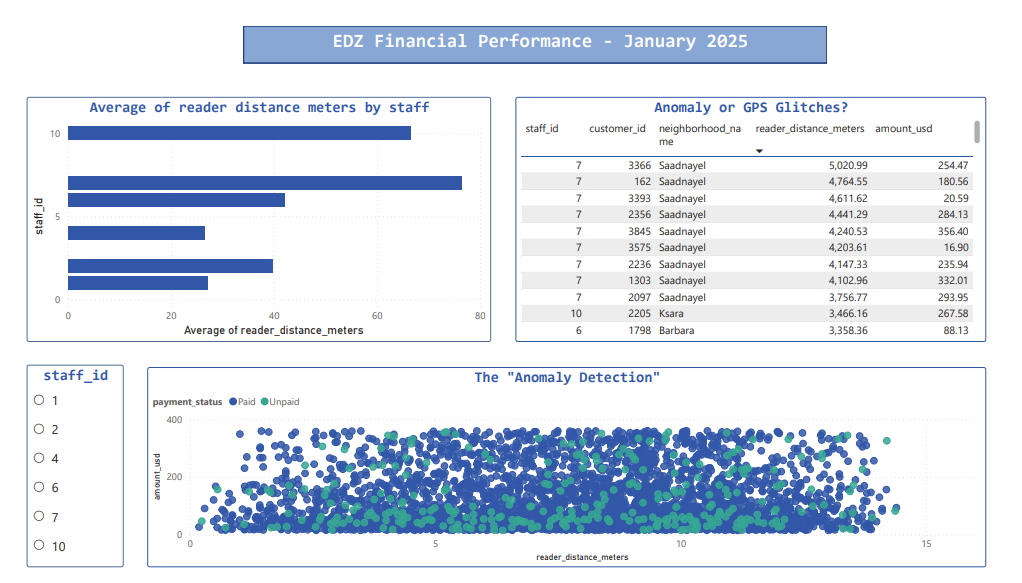

This screenshot's page, from the dashboard's own definition file:
{"tool":"powerbi","page":{"name":"Operational Audit","canvas":[1280,720],"ordinal":1},"visuals":[{"type":"shape","box":[295,23.3,740,46.7],"z":0},{"type":"textbox","box":[391.7,23.3,560,45],"z":1000},{"type":"scatterChart","title":"The \"Anomaly Detection\" ","fields":{"X":["edz_operations_db view_customer_analytics.reader_distance_meters"],"Y":["edz_operations_db view_customer_analytics.amount_usd"],"Series":["edz_operations_db view_customer_analytics.payment_status"]},"box":[172.9,455.7,1064.3,254.3],"z":2000},{"type":"tableEx","title":"Anomaly or GPS Glitches?","fields":{"Values":["edz_operations_db view_customer_analytics.staff_id","edz_operations_db view_customer_analytics.customer_id","edz_operations_db view_customer_analytics.neighborhood_name","edz_operations_db view_customer_analytics.reader_distance_meters","edz_operations_db view_customer_analytics.amount_usd"]},"box":[640,112.9,597.1,311.4],"z":3000},{"type":"barChart","title":"Average of reader distance meters by staff","fields":{"Category":["edz_operations_db view_customer_analytics.staff_id"],"Y":["Avg(edz_operations_db view_customer_analytics.reader_distance_meters)"]},"box":[20,112.9,588.6,311.4],"z":4000},{"type":"listSlicer","fields":{"Values":["edz_operations_db view_customer_analytics.staff_id"]},"box":[20,452.9,122.9,257.1],"z":5000}]}

Visuals, with their boxes in screenshot pixels (x1, y1, x2, y2), scaled from the page's 1280x720 canvas onto the 1022x583 screenshot:
shape: [236, 19, 826, 57]
textbox: [313, 19, 760, 55]
"The "Anomaly Detection" " scatterChart: [138, 369, 988, 575]
"Anomaly or GPS Glitches?" tableEx: [511, 91, 988, 344]
"Average of reader distance meters by staff" barChart: [16, 91, 486, 344]
listSlicer - edz_operations_db view_customer_analytics.staff_id: [16, 367, 114, 575]
